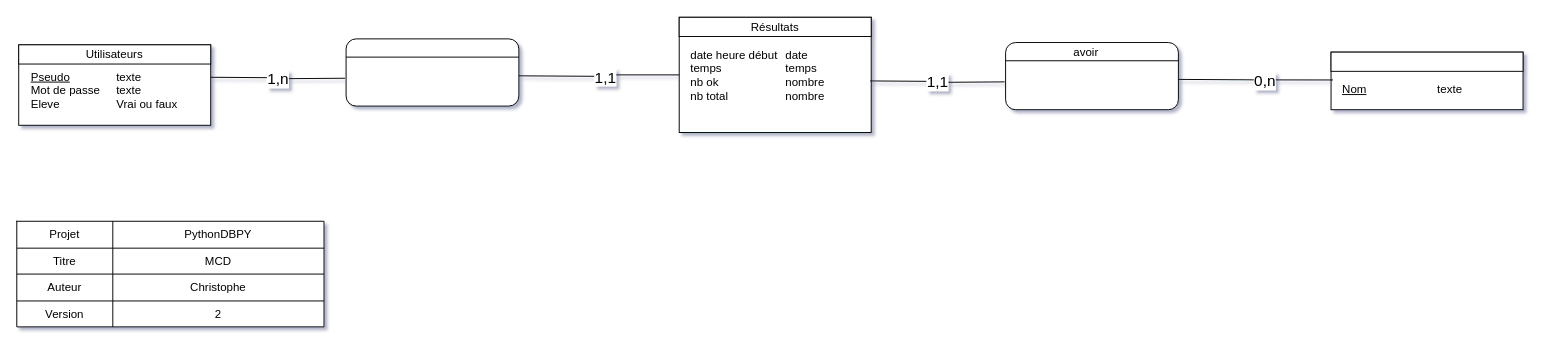
The diagram is 1554 pixels wide and 349 high, and some of its shapes have lost their labels. The shapes that lost their labels are listed below. From the top down, each one's centre as x and y in pixels, then its label:
pixel 432 72: obtenir
pixel 1426 61: Exercices
